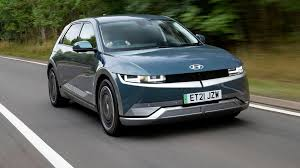car: (45, 13, 248, 139)
